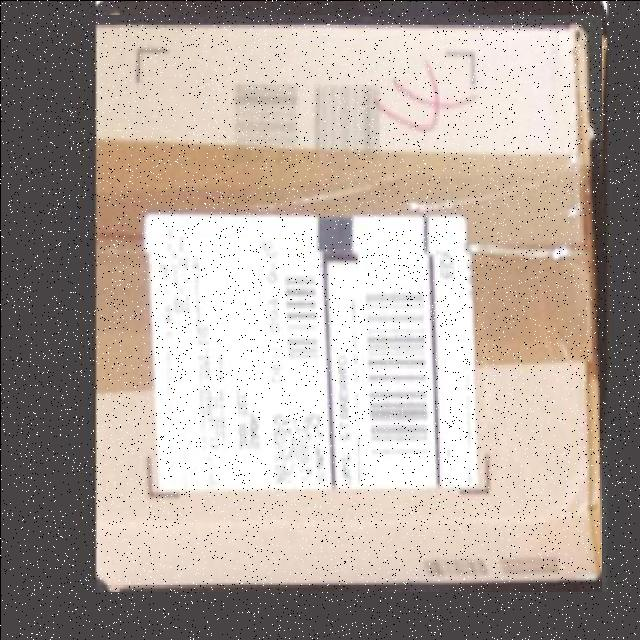normal: (94, 14, 601, 591)
